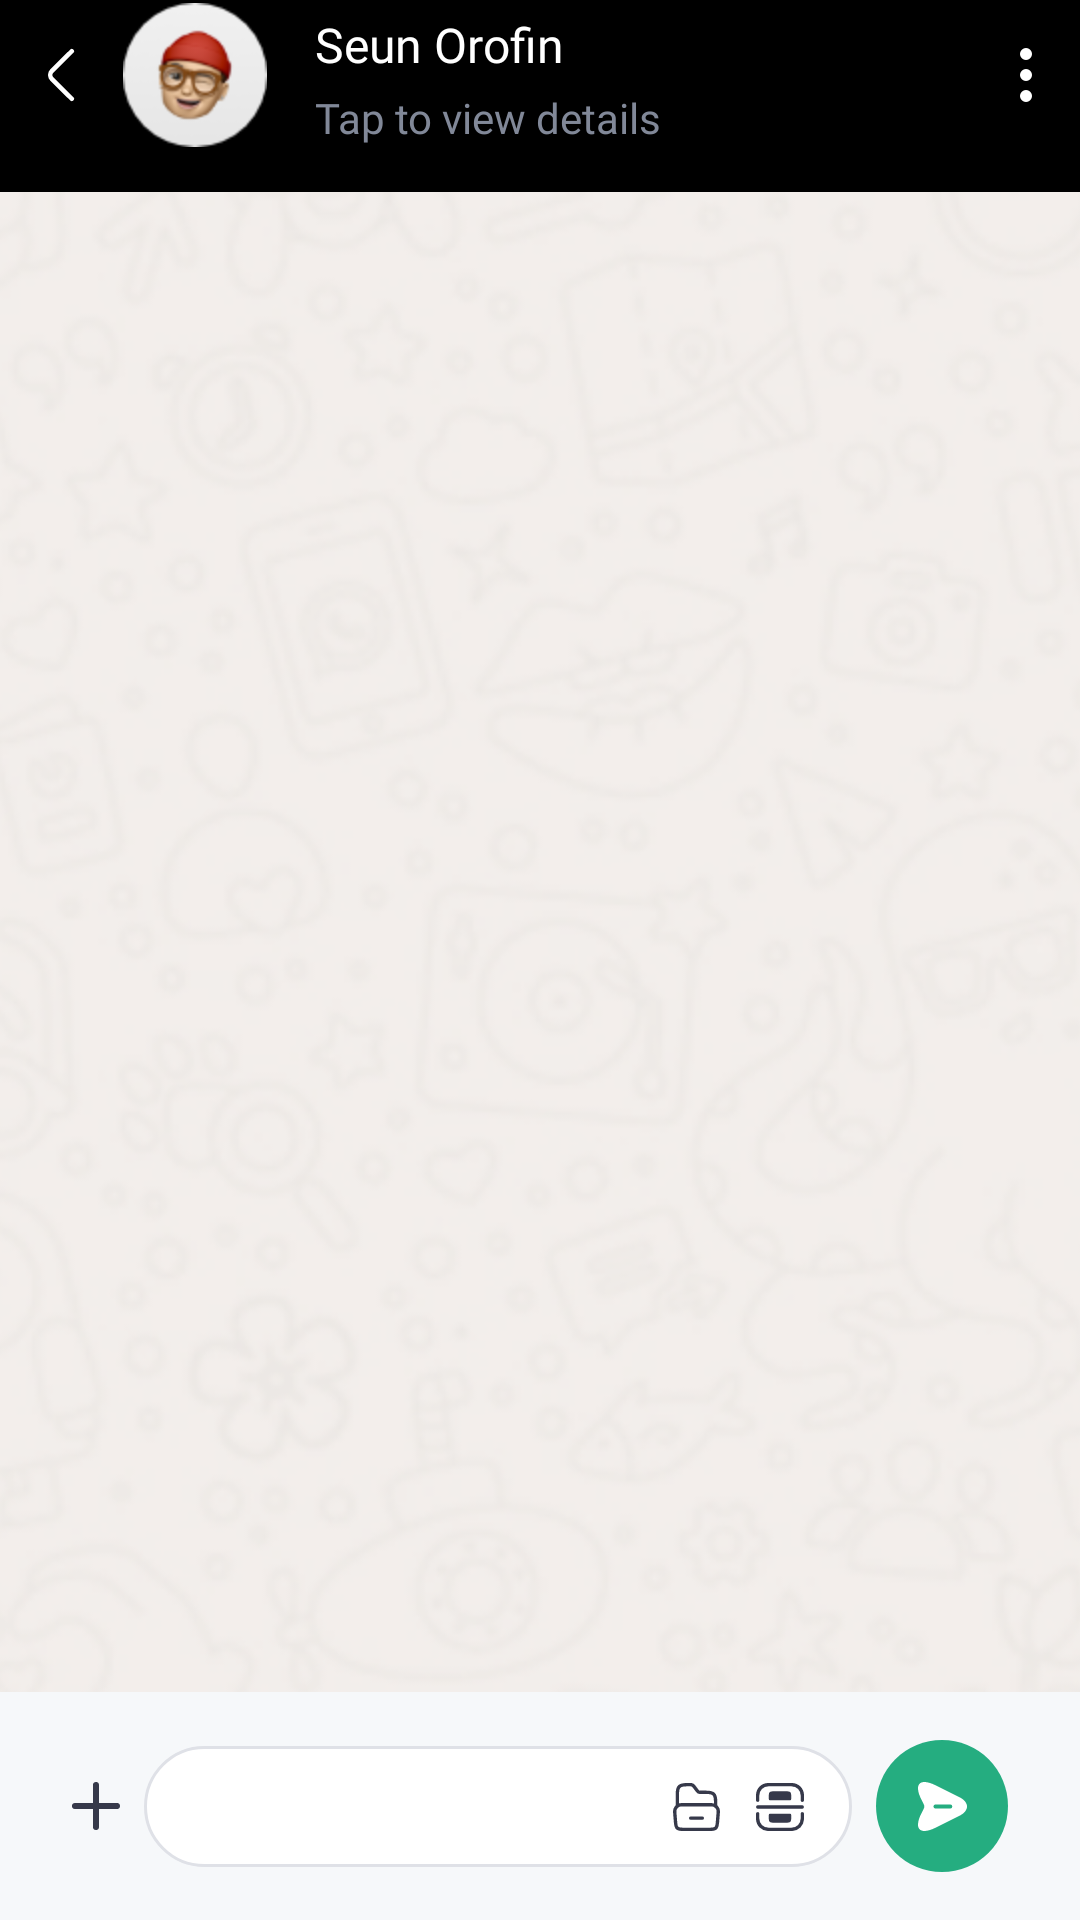

Icon click points for this 1080x1920 phone screenshot, format (x=x, y=y):
avater: (x=195, y=75)
back: (x=61, y=75)
barcode: (x=780, y=1807)
folder: (x=696, y=1807)
plus: (x=96, y=1806)
